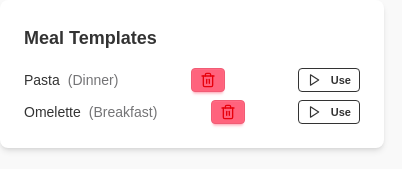
MealTemplateLibrary › renders saved templates and allows deletion
Expected: the text "Pasta" is shown, [24, 72, 60, 88]
Expected: the text "Omelette" is shown, [24, 104, 81, 120]
Click the button named "Delete template Pasta".
click(208, 80)  # box [191, 68, 225, 92]
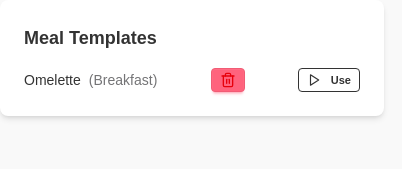
Expected: the text "Omelette" is shown, [24, 72, 81, 88]
Expected: the text "Pasta" is gone
